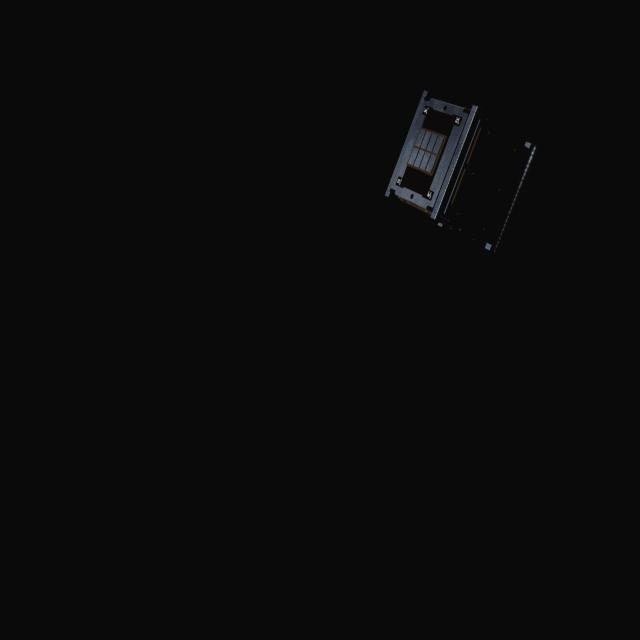medium_debris: (384, 84, 545, 260)
